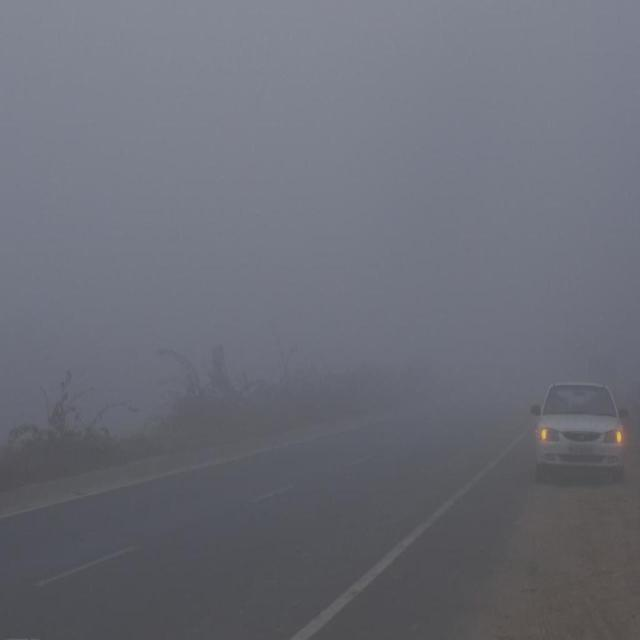car: (531, 382, 627, 484)
